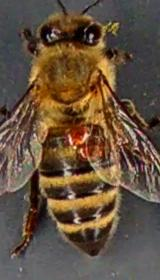varroa_mite: (76, 132, 106, 161), (61, 122, 93, 142)
